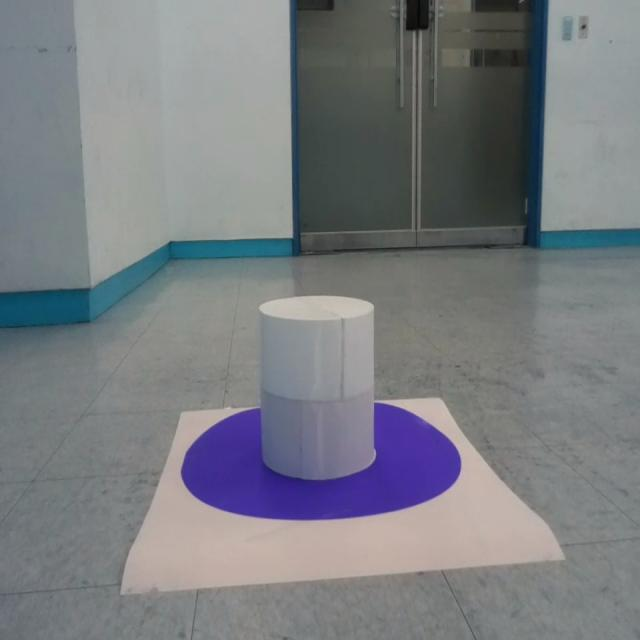cylinder: (258, 296, 376, 480)
